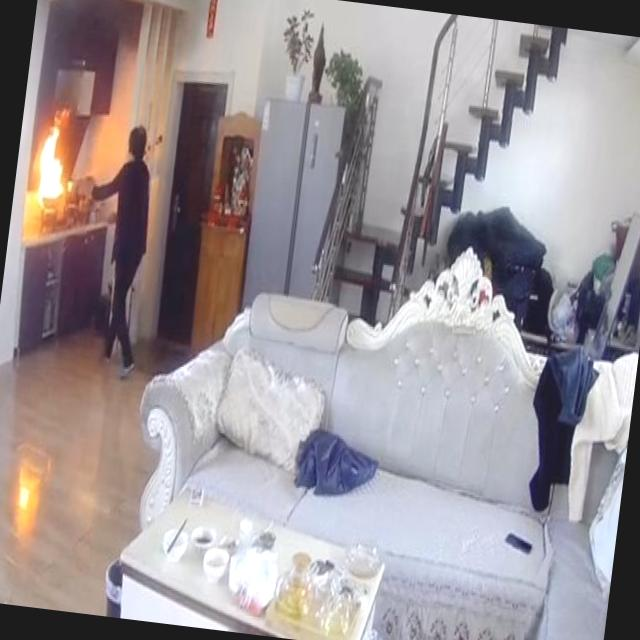fire: (24, 98, 83, 224)
